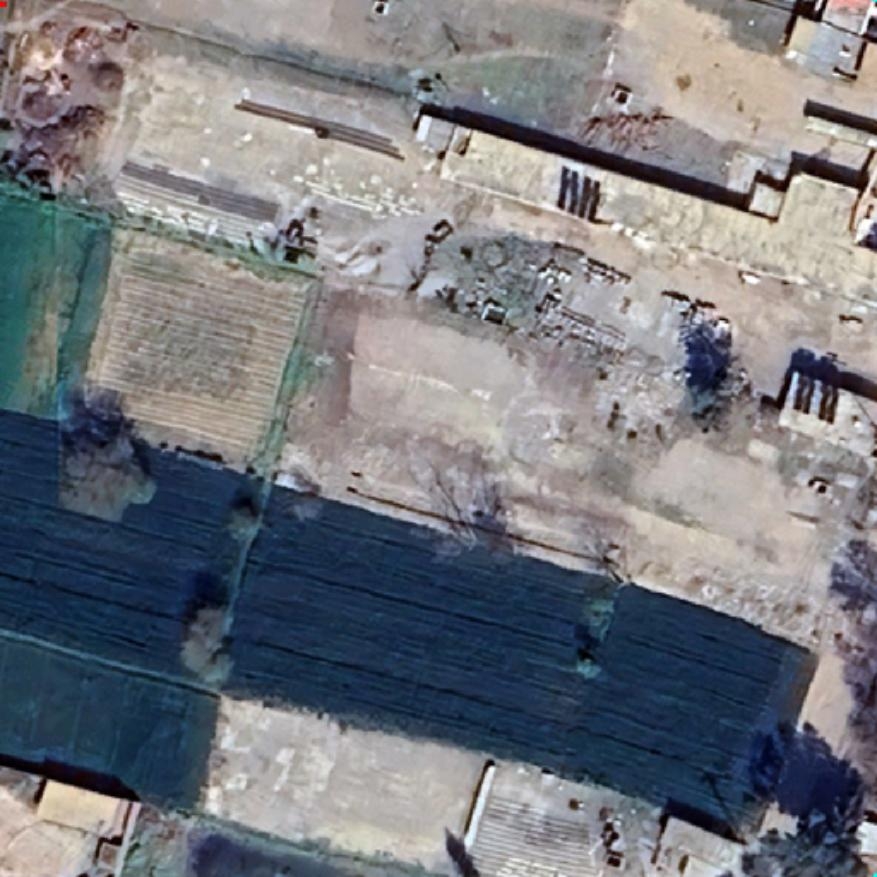Solarpanel: (552, 162, 606, 226)
